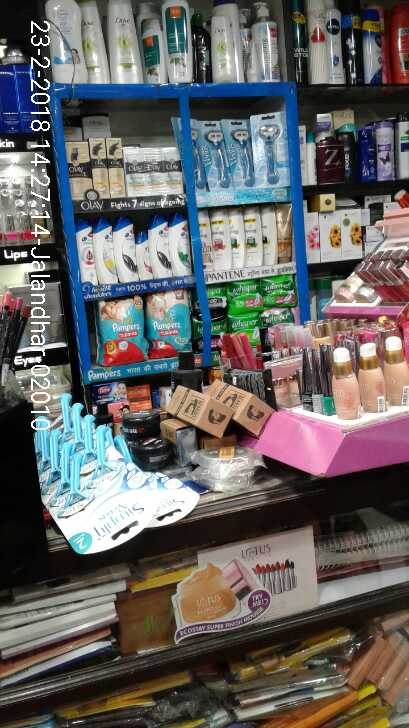venus: (32, 390, 182, 541), (256, 111, 283, 186), (180, 121, 209, 189), (227, 121, 256, 185), (208, 121, 227, 189)
